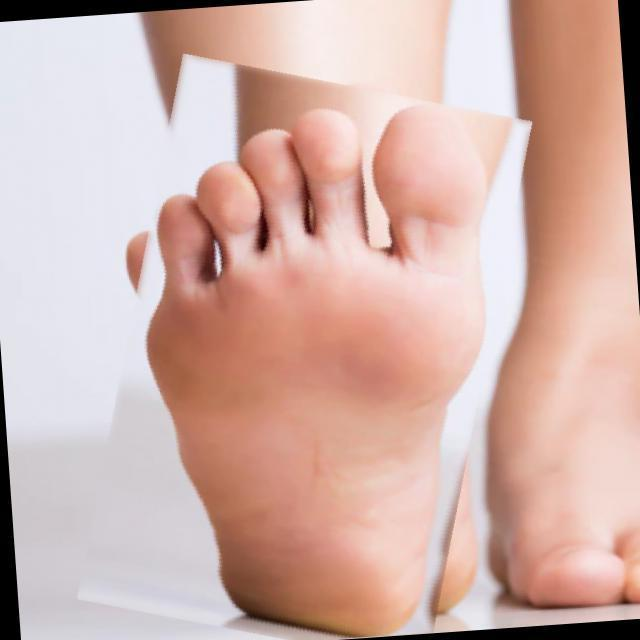No_Shoes: (74, 99, 502, 640), (474, 239, 631, 623)
